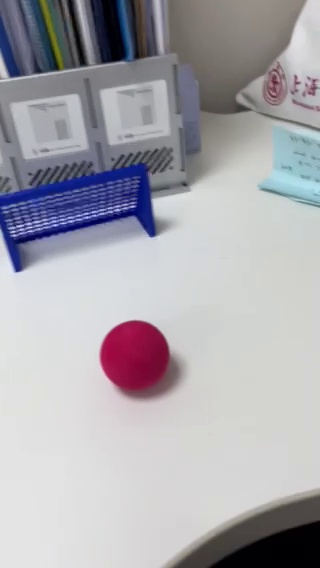goal: (0, 169, 159, 269)
redball: (101, 320, 172, 394)
